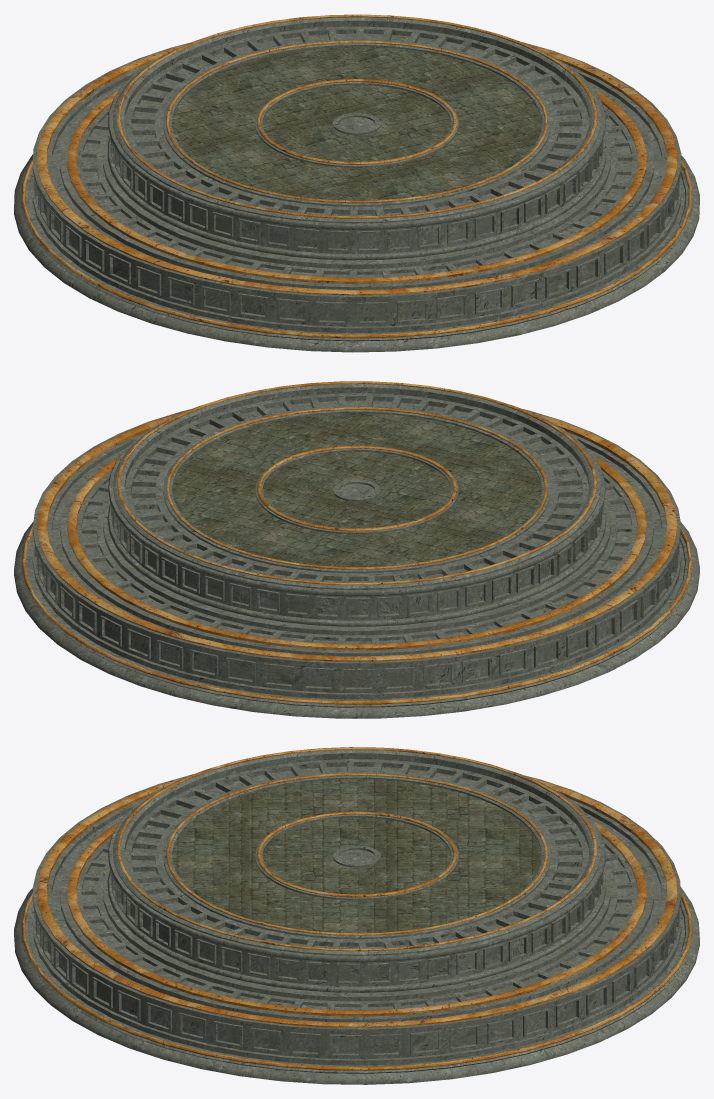
The model's file is podium2.glb.
3 views of the same model, one above another, from view 1: azimuth 30°, elevation 25°; view 2: azimuth 150°, elevation 25°; view 3: azimuth 270°, elevation 25° (orthographic).
Parts seen in each view (by area): view 1: Podium; view 2: Podium; view 3: Podium.
Part boxes in pixels (x1,y1,x2,y2): Podium: (14, 14, 699, 352); Podium: (14, 381, 699, 718); Podium: (14, 747, 699, 1084).
Bounding box in the file's own units: 0.1888 × 0.0278 × 0.1888.
3 materials, 3 textured.
